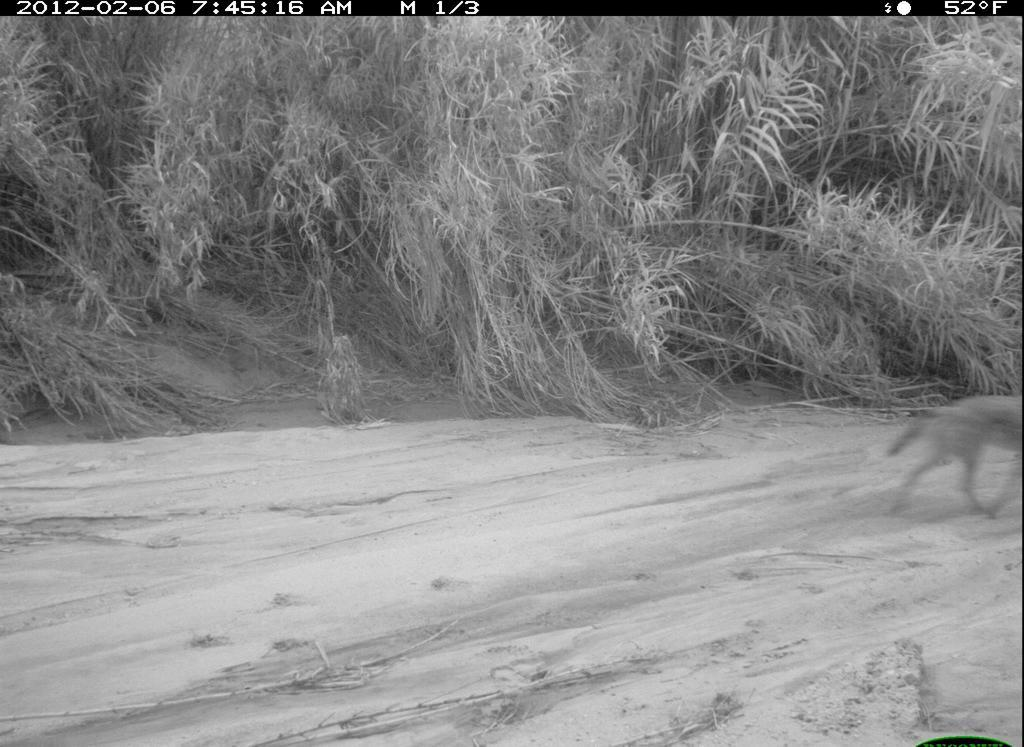coyote: (889, 383, 1023, 528)
